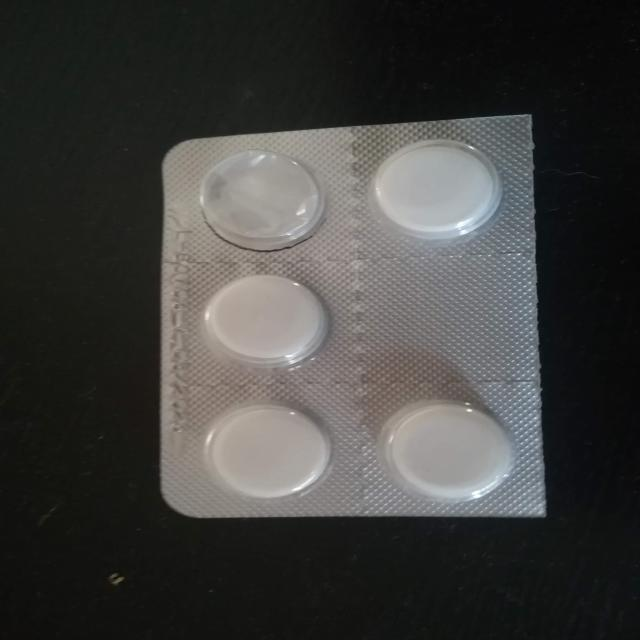Empty: (183, 145, 331, 255)
Pill: (378, 392, 520, 510), (368, 127, 510, 242), (193, 394, 339, 503), (192, 271, 338, 373)
